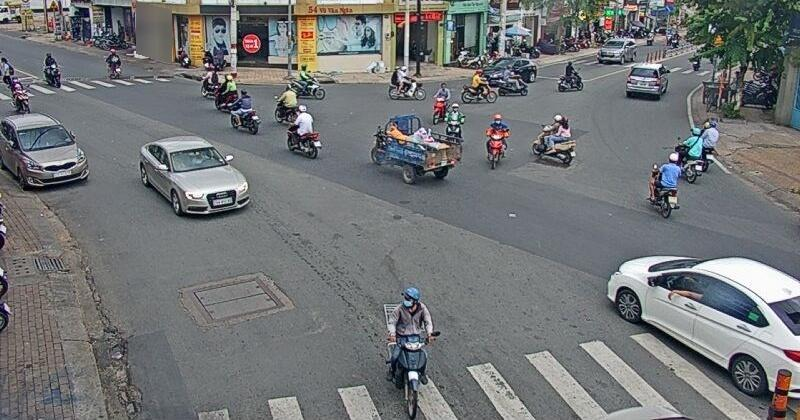xe hoi: (607, 256, 800, 394), (137, 136, 249, 219), (0, 112, 87, 190), (626, 63, 668, 97), (483, 57, 537, 83)
xe may: (387, 288, 441, 420), (531, 112, 575, 165), (648, 153, 680, 219), (286, 105, 321, 159), (675, 128, 703, 184), (286, 63, 325, 100), (230, 90, 261, 135), (484, 114, 509, 169), (388, 66, 427, 101), (460, 69, 497, 104), (274, 83, 299, 123), (432, 82, 451, 125), (443, 102, 465, 138)
